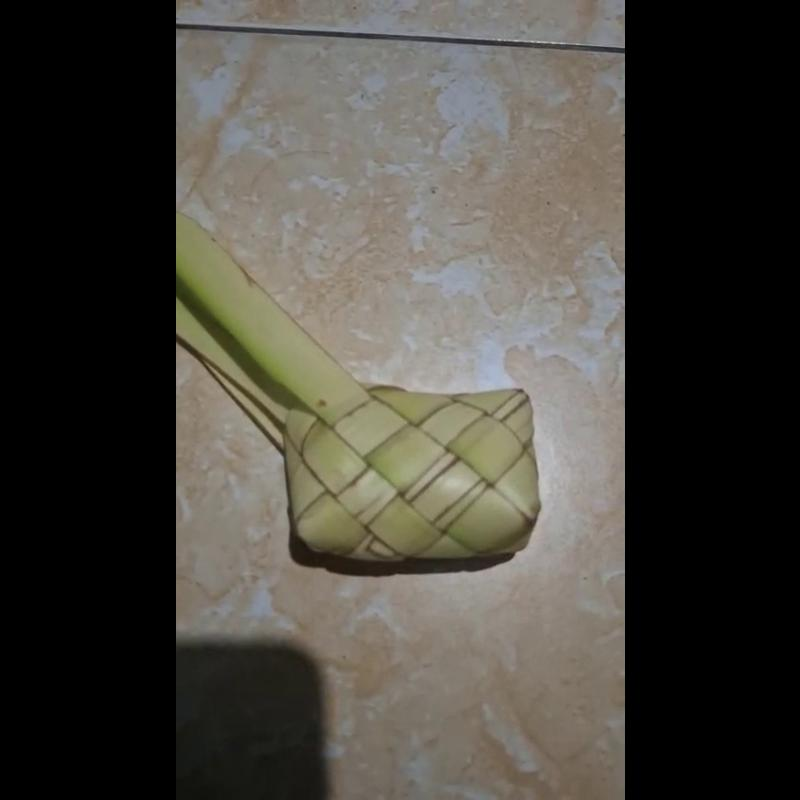Tipat Bantal: (178, 202, 535, 568)
